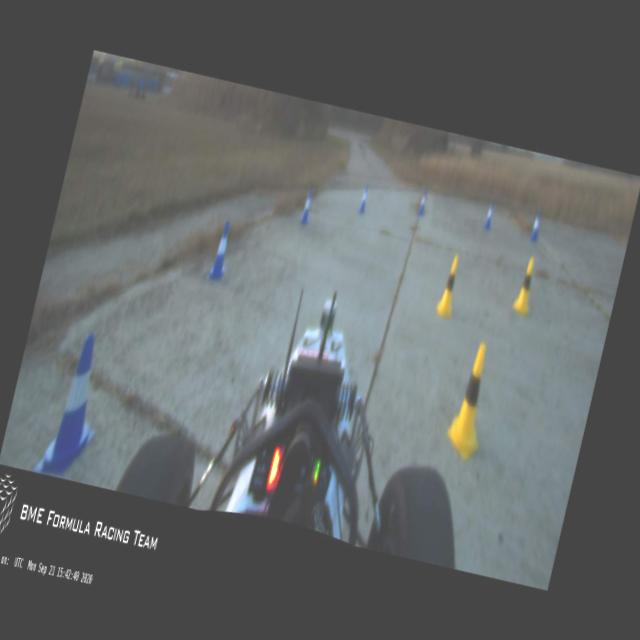blue_cone: (32, 328, 116, 480), (206, 220, 236, 282), (298, 186, 316, 224), (482, 200, 496, 232), (528, 212, 542, 242), (416, 186, 429, 216), (358, 184, 370, 214)
yellow_cone: (441, 338, 502, 464), (434, 254, 464, 318), (510, 256, 540, 317)
